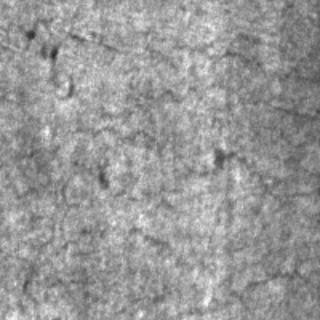crazing: (8, 118, 184, 302), (119, 27, 317, 113)
